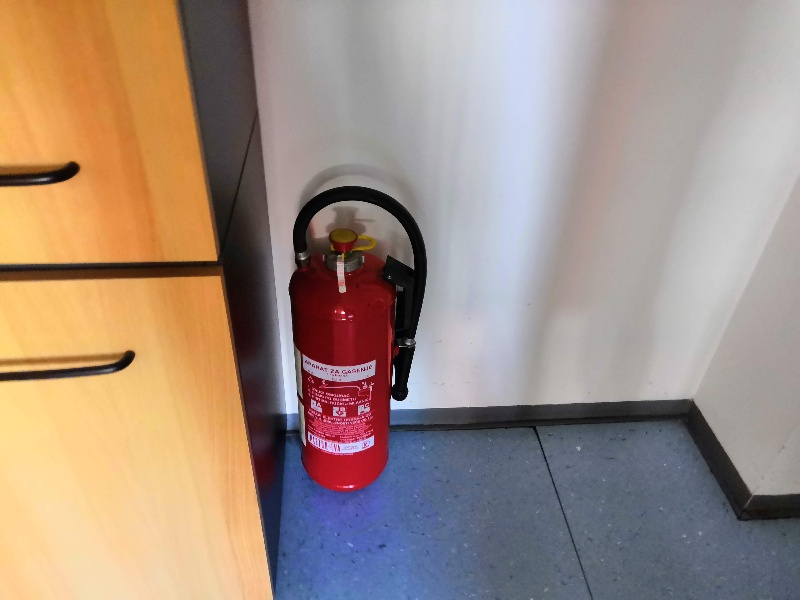vataparat: (287, 186, 428, 494)
